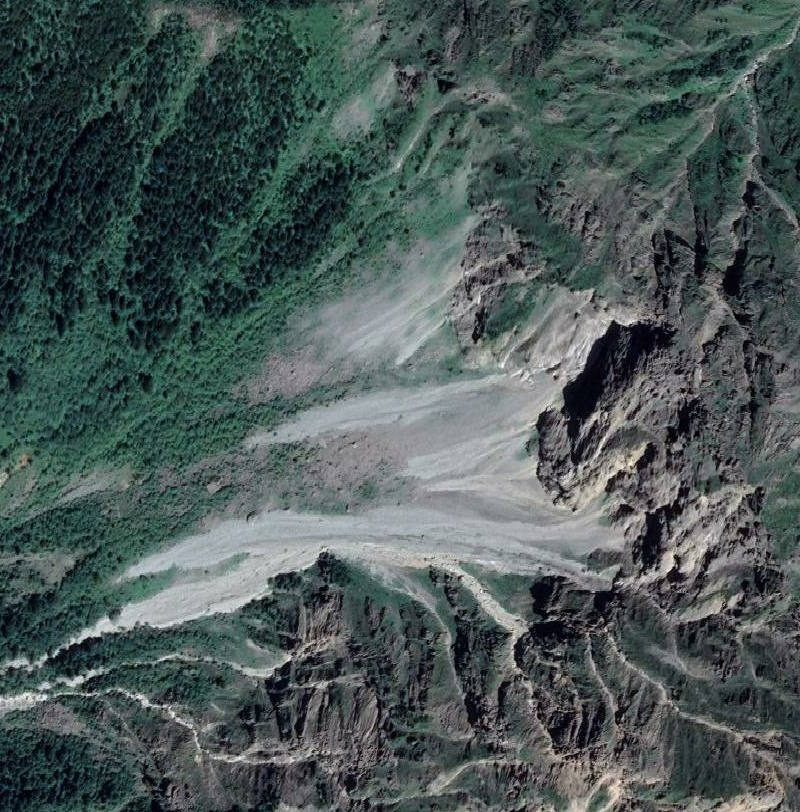slope: (19, 202, 769, 663), (257, 593, 383, 810)
